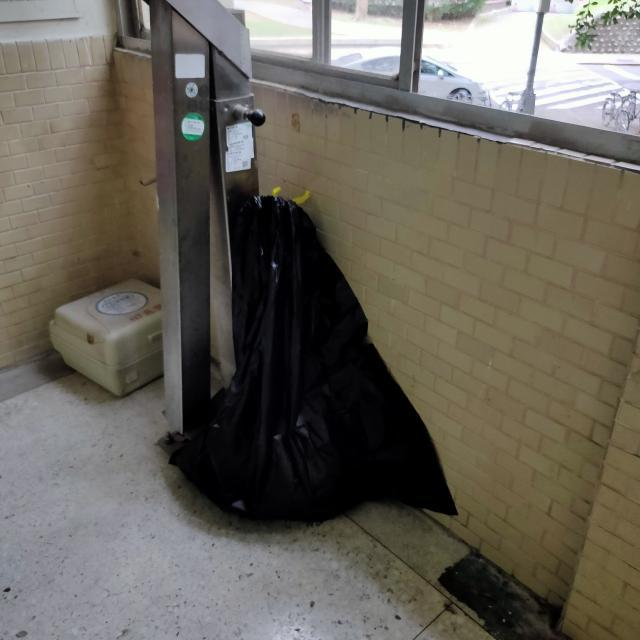Vinyl: (153, 185, 470, 540)
